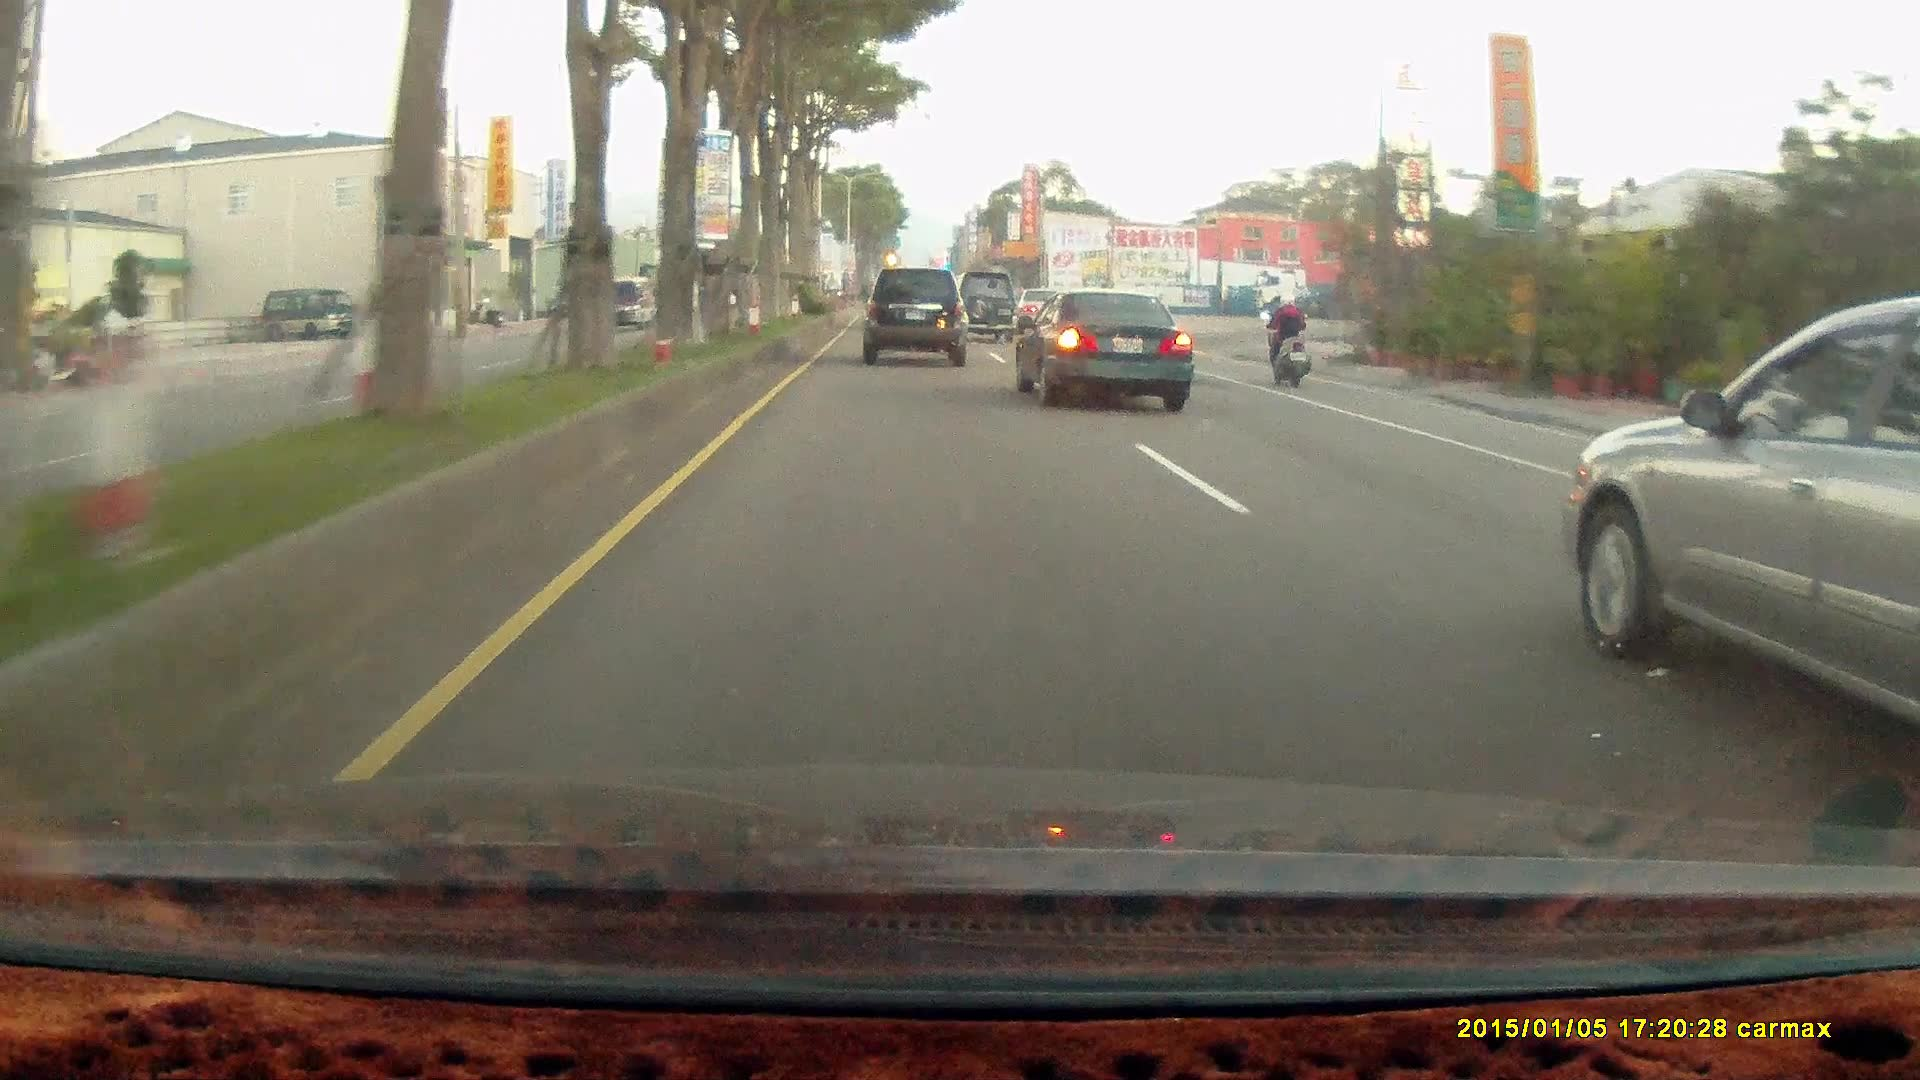rider: (1252, 286, 1321, 395), (1260, 286, 1312, 385)
vehicle: (1557, 296, 1920, 772), (1013, 286, 1194, 411), (1013, 286, 1192, 408), (1257, 262, 1488, 318), (862, 265, 969, 365), (860, 264, 966, 362), (948, 270, 1020, 345), (948, 269, 1020, 342), (262, 289, 361, 339), (591, 275, 659, 329)
